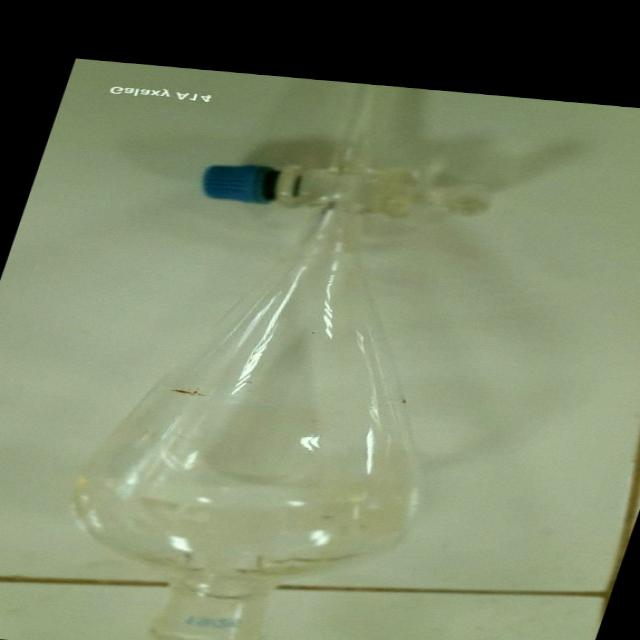Separating Funnel: (30, 71, 551, 640)
